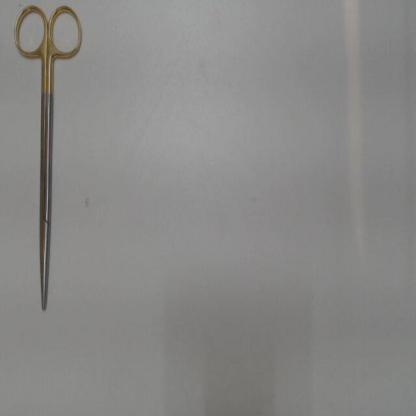7 Metzenbaum Scissors: (13, 4, 84, 311)
